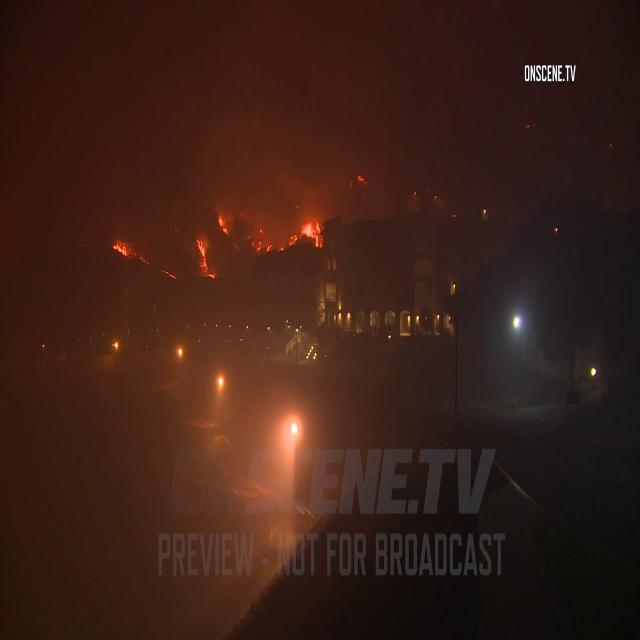fire: (191, 234, 217, 292), (288, 213, 326, 244)
